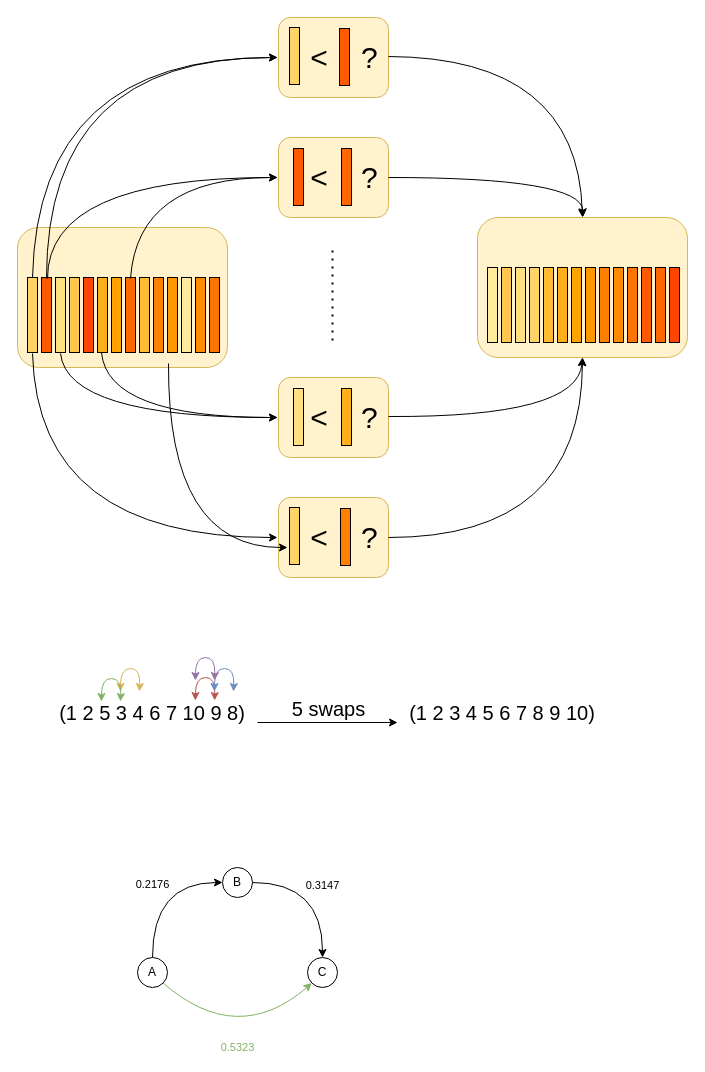
Image size: 705x1072. Some labels were removed from this diagram. The shapes that lost their labels are listed below. From the top down, each one's centre as x and y in pixels, then its label:
(122,297): Book with pages out of order
(582,287): Book with reordered pages
